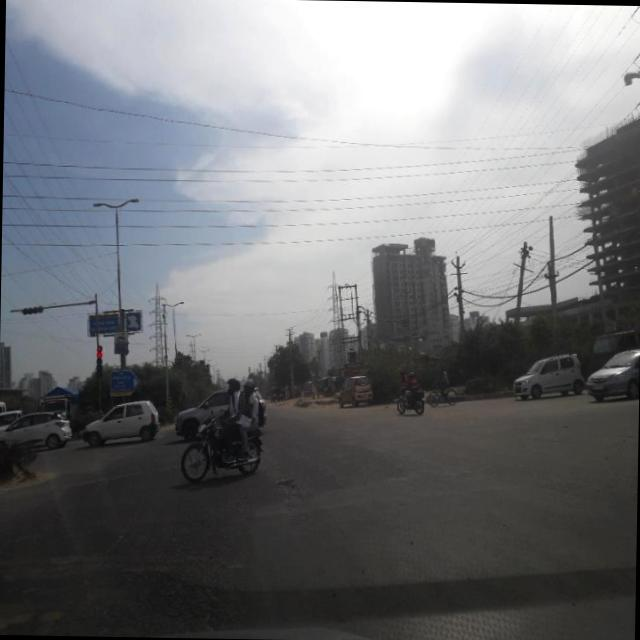crack: (8, 464, 286, 630), (50, 470, 150, 632)
pothole: (272, 476, 304, 494)
